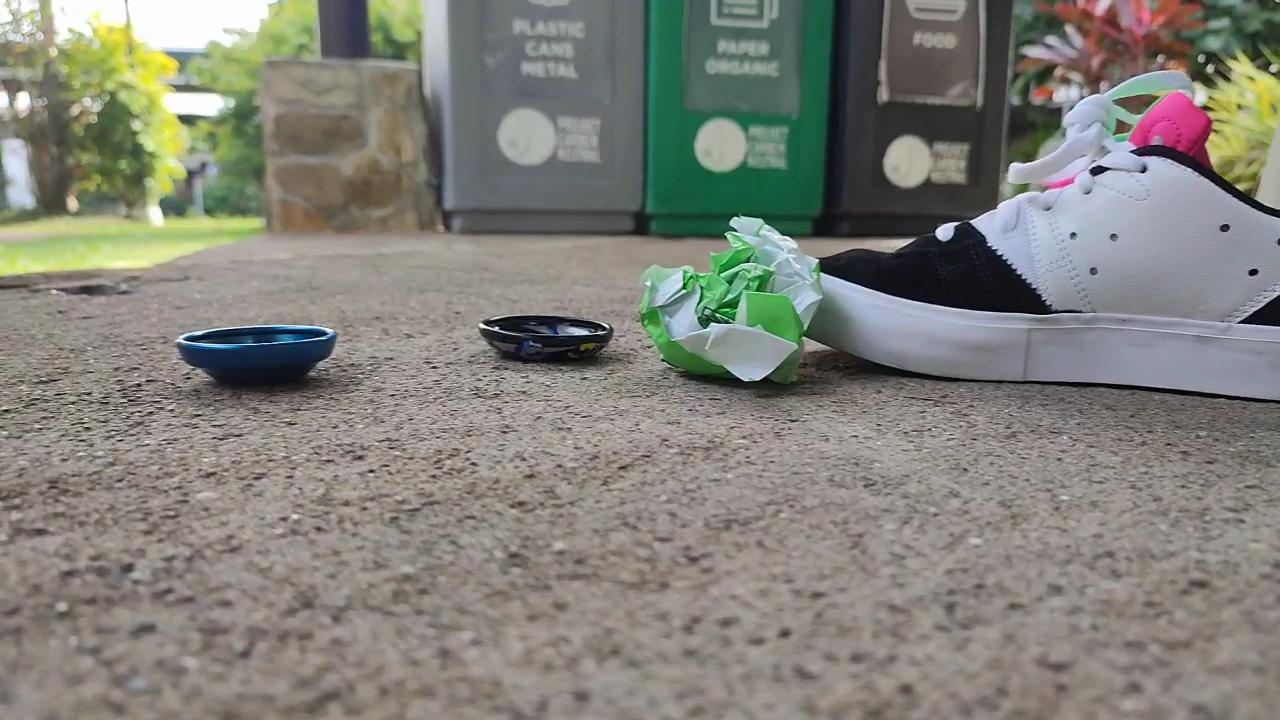Paper: (632, 194, 822, 398)
